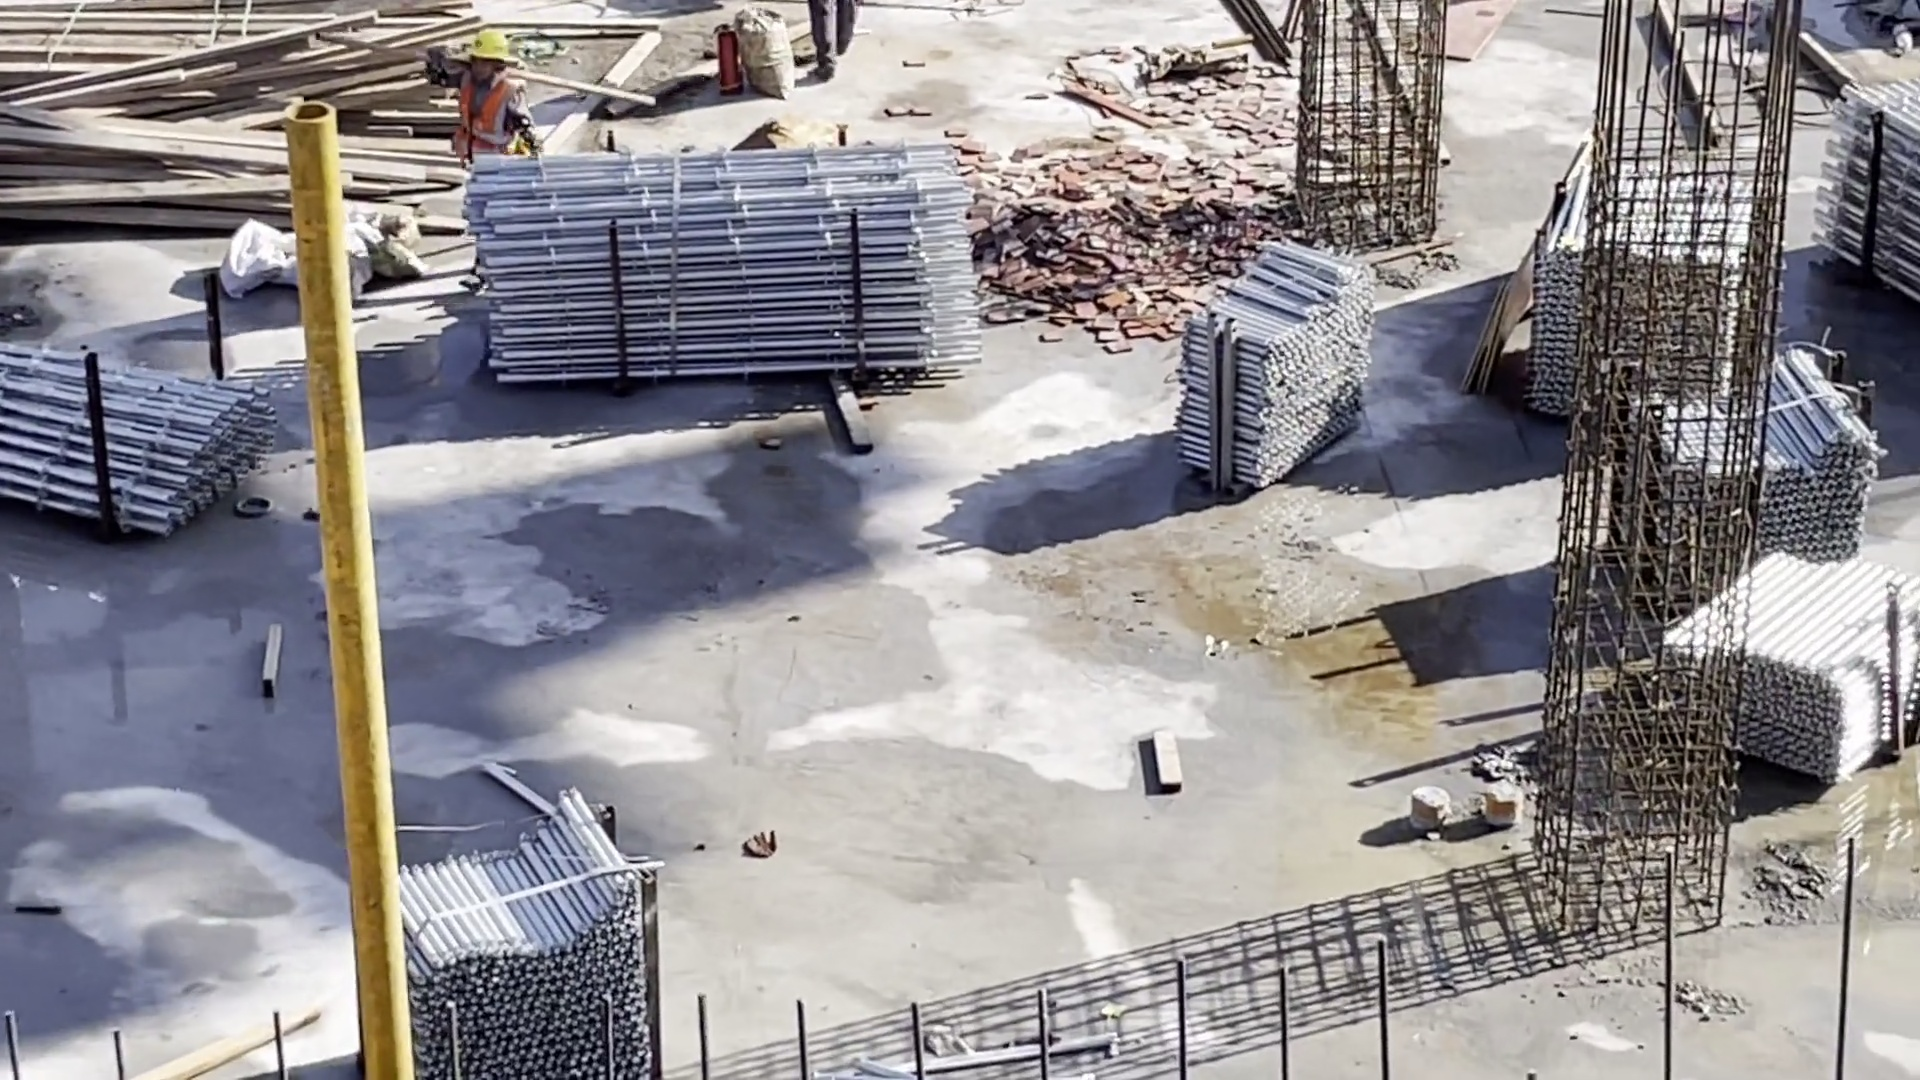helmet: (466, 29, 511, 65)
person: (453, 24, 531, 168), (779, 1, 872, 80)
scaffold: (452, 142, 976, 417), (372, 782, 656, 1080), (1657, 542, 1920, 789), (1525, 148, 1752, 431), (1, 337, 277, 538), (1174, 233, 1380, 488), (1651, 357, 1876, 561), (1814, 72, 1920, 305)
vest: (455, 67, 518, 159)
wood: (1, 1, 453, 242)
